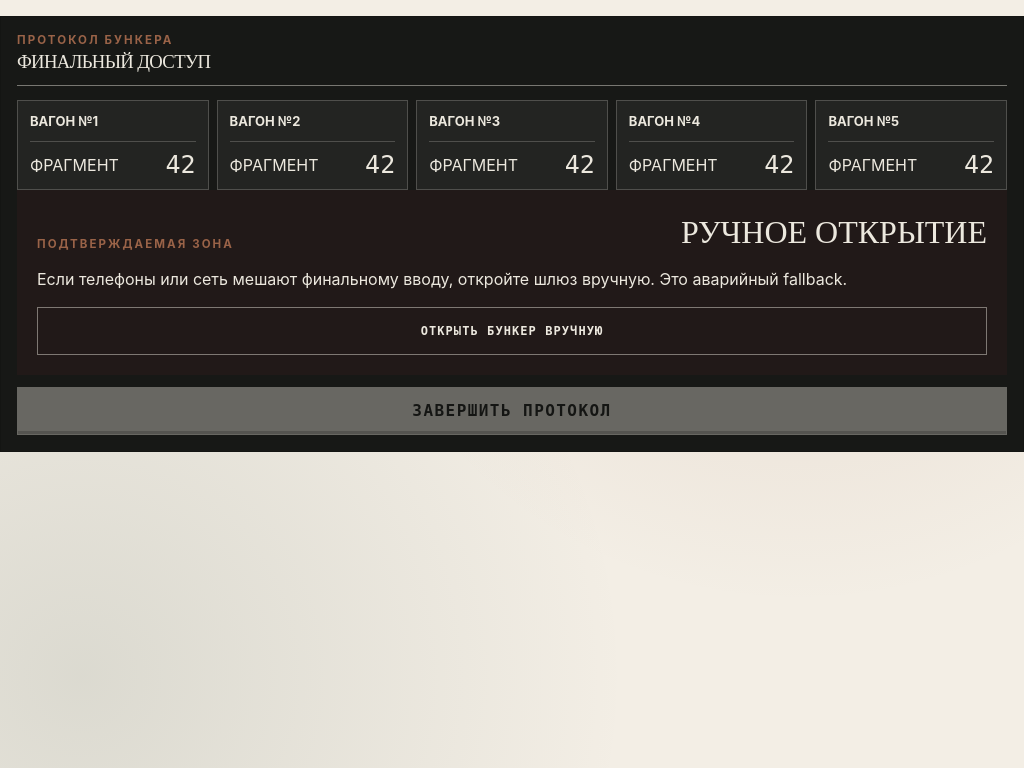
BunkerQuestOwnerPanel › requires danger-zone confirmation before the manual unlock fallback
This screenshot has width=1024, height=768.
Later steps or results of the test are not shown.
Expected: the text "42" is shown 5 times, 166,152 -> 196,177; 365,152 -> 395,177; 565,152 -> 595,177; 764,152 -> 794,177; 964,152 -> 994,177
Click the button "ОТКРЫТЬ БУНКЕР ВРУЧНУЮ" at [512, 331], box 37,307 -> 987,355
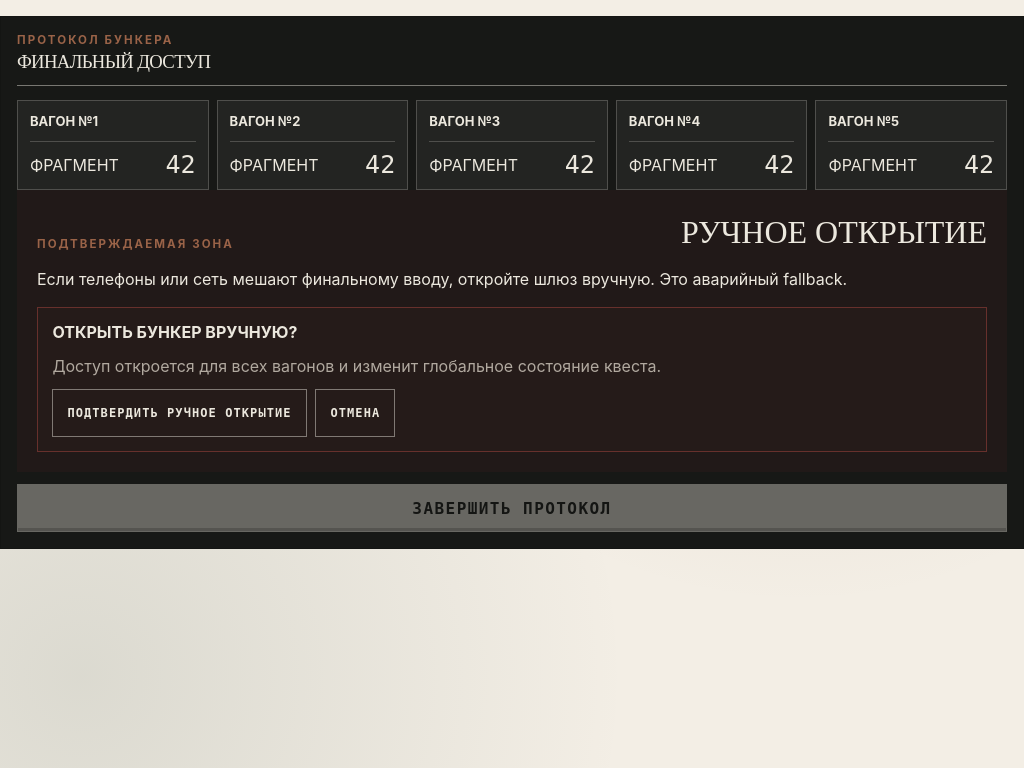
Expected: the message shows "ОТКРЫТЬ БУНКЕР ВРУЧНУЮ?", 52,322 -> 297,342
